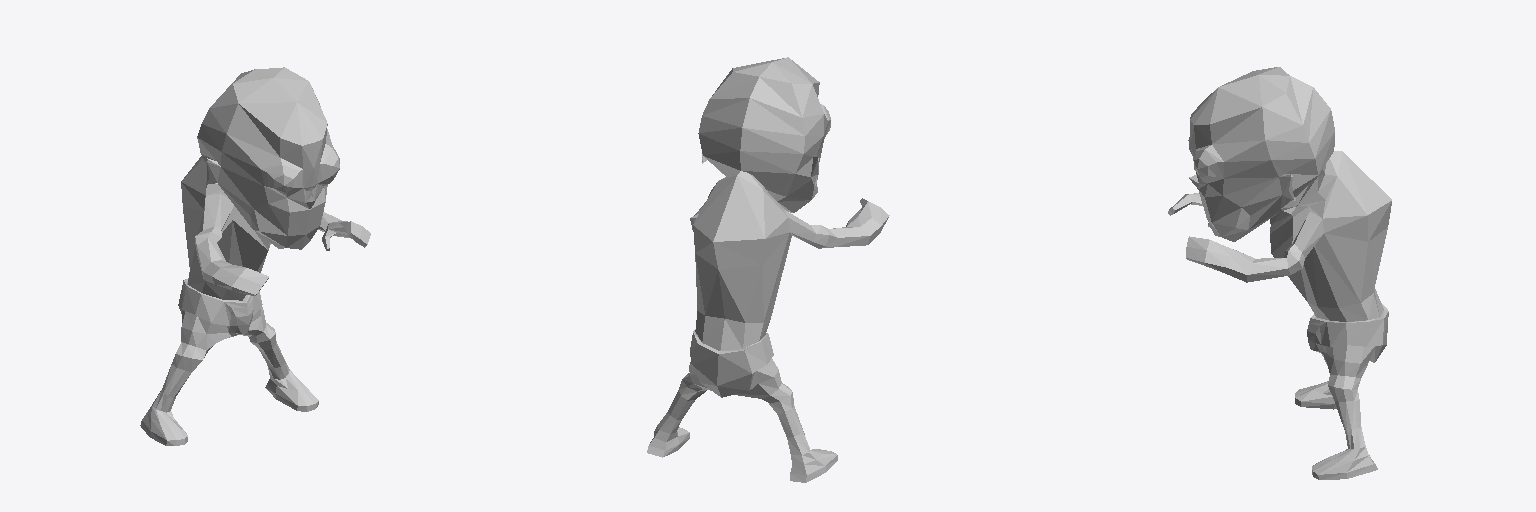
Rendered from GuardianNormal_000118.obj.
3 views of the same model, side by side, from view 1: azimuth 30°, elevation 25°; view 2: azimuth 150°, elevation 25°; view 3: azimuth 270°, elevation 25° (orthographic).
Parts seen in each view (by area): view 1: untitled2:Mesh1.001; view 2: untitled2:Mesh1.001; view 3: untitled2:Mesh1.001.
Part boxes in pixels (x1,y1,x2,y2): untitled2:Mesh1.001: (140, 67, 370, 445); untitled2:Mesh1.001: (647, 57, 889, 482); untitled2:Mesh1.001: (1168, 67, 1391, 479).
Bounding box in the file's own units: 7.03 × 15.05 × 8.32.